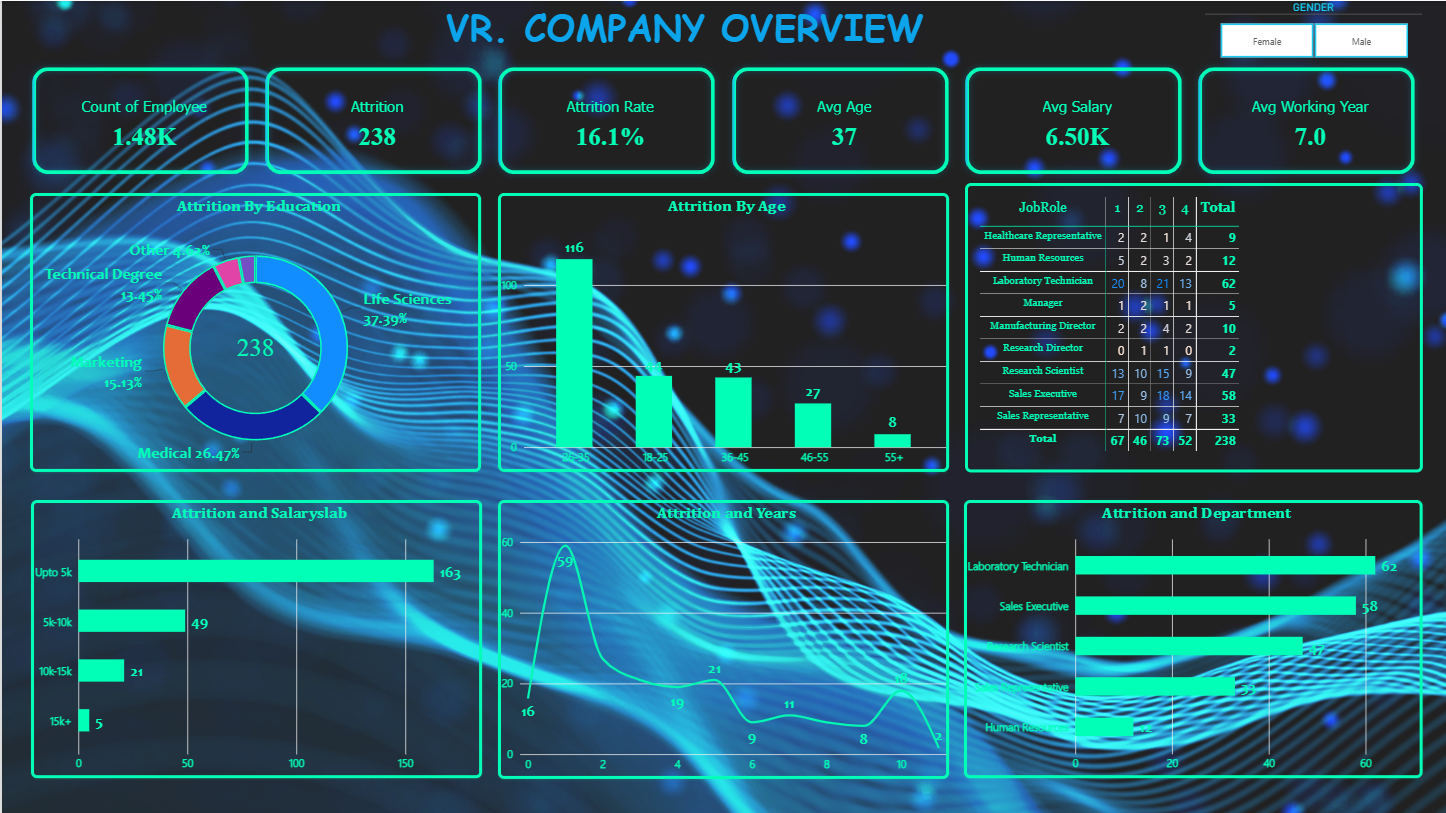

Layout of this report page (visuals, bound fields, positions):
{"tool":"powerbi","page":{"name":"Page 1","canvas":[1920,1080],"ordinal":0},"visuals":[{"type":"textbox","box":[10.2,0,1794.5,93.4],"z":0},{"type":"cardVisual","fields":{"Data":["CountNonNull(Sheet1.EmpID)"]},"box":[29.2,77.3,310.3,164.9],"z":1000},{"type":"cardVisual","fields":{"Data":["Sum(Sheet1.Attritioncolumn)"]},"box":[339.5,77.3,310.3,164.9],"z":2000},{"type":"cardVisual","fields":{"Data":["Sheet1.AttritionRate"]},"box":[649.7,77.3,310.3,164.9],"z":3000},{"type":"cardVisual","fields":{"Data":["Avg(Sheet1.Age)"]},"box":[960,77.3,310.3,164.9],"z":4000},{"type":"cardVisual","fields":{"Data":["Avg(Sheet1.MonthlyIncome)"]},"box":[1270.3,77.3,310.3,164.9],"z":5000},{"type":"cardVisual","fields":{"Data":["Avg(Sheet1.YearsAtCompany)"]},"box":[1580.5,77.3,310.3,164.9],"z":6000},{"type":"slicer","title":"GENDER","fields":{"Values":["Sheet1.Gender"]},"box":[1600.3,0,288.8,77.2],"z":6001},{"type":"donutChart","title":" Attrition By Education","fields":{"Category":["Sheet1.EducationField"],"Y":["Sum(Sheet1.Attritioncount)"]},"box":[37.2,255.4,599.9,371.1],"z":6002},{"type":"columnChart","title":" Attrition By Age","fields":{"Category":["Sheet1.AgeGroup"],"Y":["Sum(Sheet1.Attritioncount)"]},"box":[659.7,255.4,599.9,371.1],"z":6003},{"type":"pivotTable","title":" Attrition By Age","fields":{"Columns":["Sheet1.JobSatisfaction"],"Rows":["Sheet1.JobRole"],"Values":["Sum(Sheet1.Attritioncount)"]},"box":[1281.2,242.5,608.8,385],"z":6004},{"type":"barChart","title":" Attrition and Salaryslab","fields":{"Category":["Sheet1.SalarySlab"],"Y":["Sum(Sheet1.Attritioncount)"]},"box":[38.6,663.7,599.9,369.8],"z":6005},{"type":"barChart","title":" Attrition and Department","fields":{"Category":["Sheet1.JobRole"],"Y":["Sum(Sheet1.Attritioncount)"]},"box":[1279.5,663.7,610.5,369.8],"z":6006},{"type":"lineChart","title":" Attrition and Years","fields":{"Category":["Sheet1.YearsAtCompany"],"Y":["Sum(Sheet1.Attritioncount)"]},"box":[659.5,663.8,599.9,371.1],"z":6007}]}

Visuals, with their boxes in screenshot pixels (x1, y1, x2, y2), scaled from the page's 1920x1080 canvas onto the 1446x813 screenshot:
textbox: 8 0 1359 70
cardVisual - CountNonNull(Sheet1.EmpID): 22 58 256 182
cardVisual - Sum(Sheet1.Attritioncolumn): 256 58 489 182
cardVisual - Sheet1.AttritionRate: 489 58 723 182
cardVisual - Avg(Sheet1.Age): 723 58 957 182
cardVisual - Avg(Sheet1.MonthlyIncome): 957 58 1190 182
cardVisual - Avg(Sheet1.YearsAtCompany): 1190 58 1424 182
"GENDER" slicer: 1205 0 1423 58
" Attrition By Education" donutChart: 28 192 480 472
" Attrition By Age" columnChart: 497 192 949 472
" Attrition By Age" pivotTable: 965 183 1423 472
" Attrition and Salaryslab" barChart: 29 500 481 778
" Attrition and Department" barChart: 964 500 1423 778
" Attrition and Years" lineChart: 497 500 948 779
